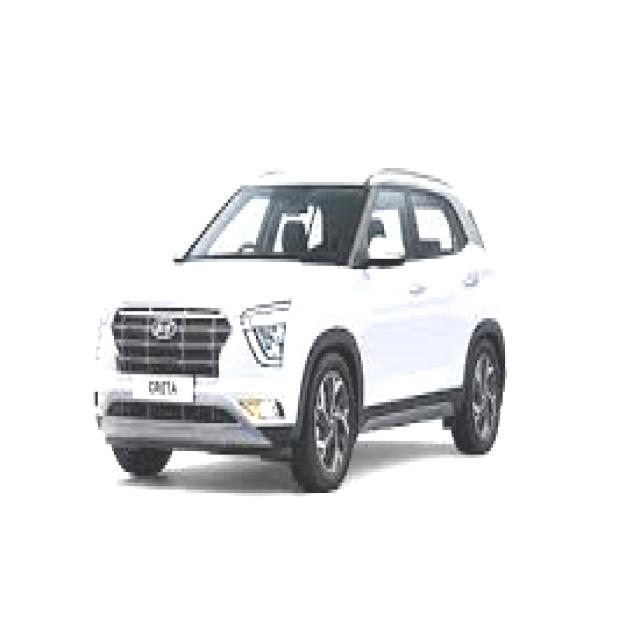SUV: (91, 158, 507, 488)
